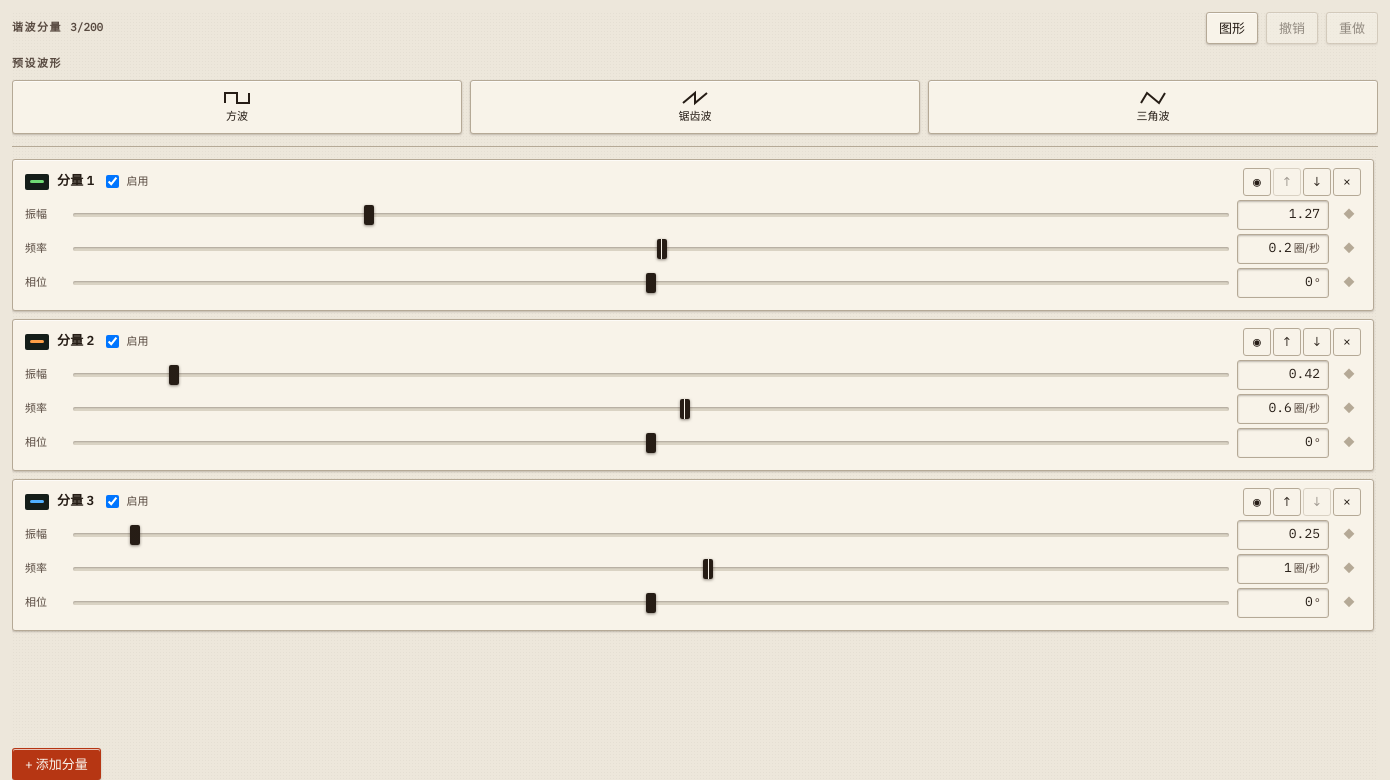
ParamControl keyframes › the diamond button adds a keyframe at the current time and marks the parameter animated
This screenshot has width=1390, height=780.
Click the button named "为分量 1 振幅添加关键帧" at (1349, 215), box left=1337, top=203, right=1361, bottom=227
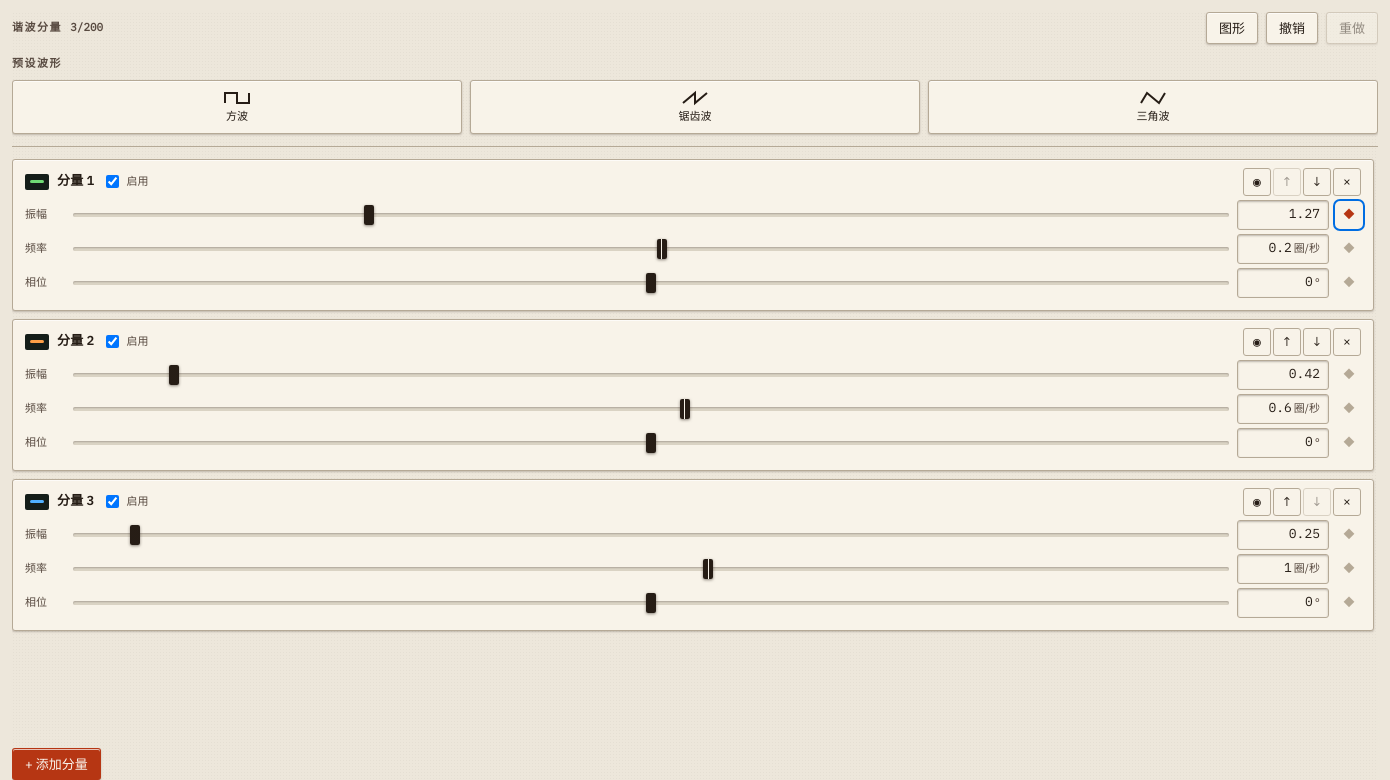
Now the button named "分量 1 振幅添加关键帧(已动画)" is shown, box left=1337, top=203, right=1361, bottom=227
